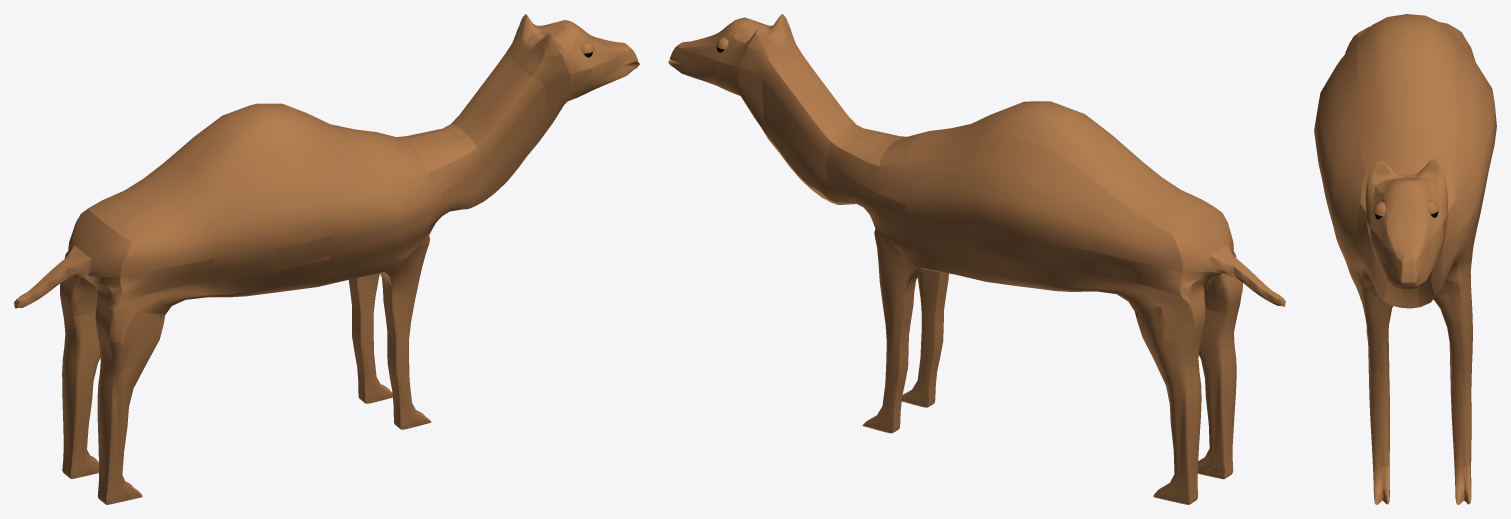
Rendered from c1691792-49e5-40e9-ab20-adb19d875401.glb.
3 renders of one model, left to right at view 1: azimuth 30°, elevation 25°; view 2: azimuth 150°, elevation 25°; view 3: azimuth 270°, elevation 25°, orthographic. The views are drawn at different scales.
Parts seen in each view (by area): view 1: Box006; view 2: Box006; view 3: Box006.
Boxes of the visible parts, box(x1,y1,x2,y2) form: Box006: box(14, 14, 639, 504); Box006: box(668, 14, 1285, 504); Box006: box(1314, 14, 1496, 504).
Size of the model in its own units: 112 by 62.42 by 24.84.
